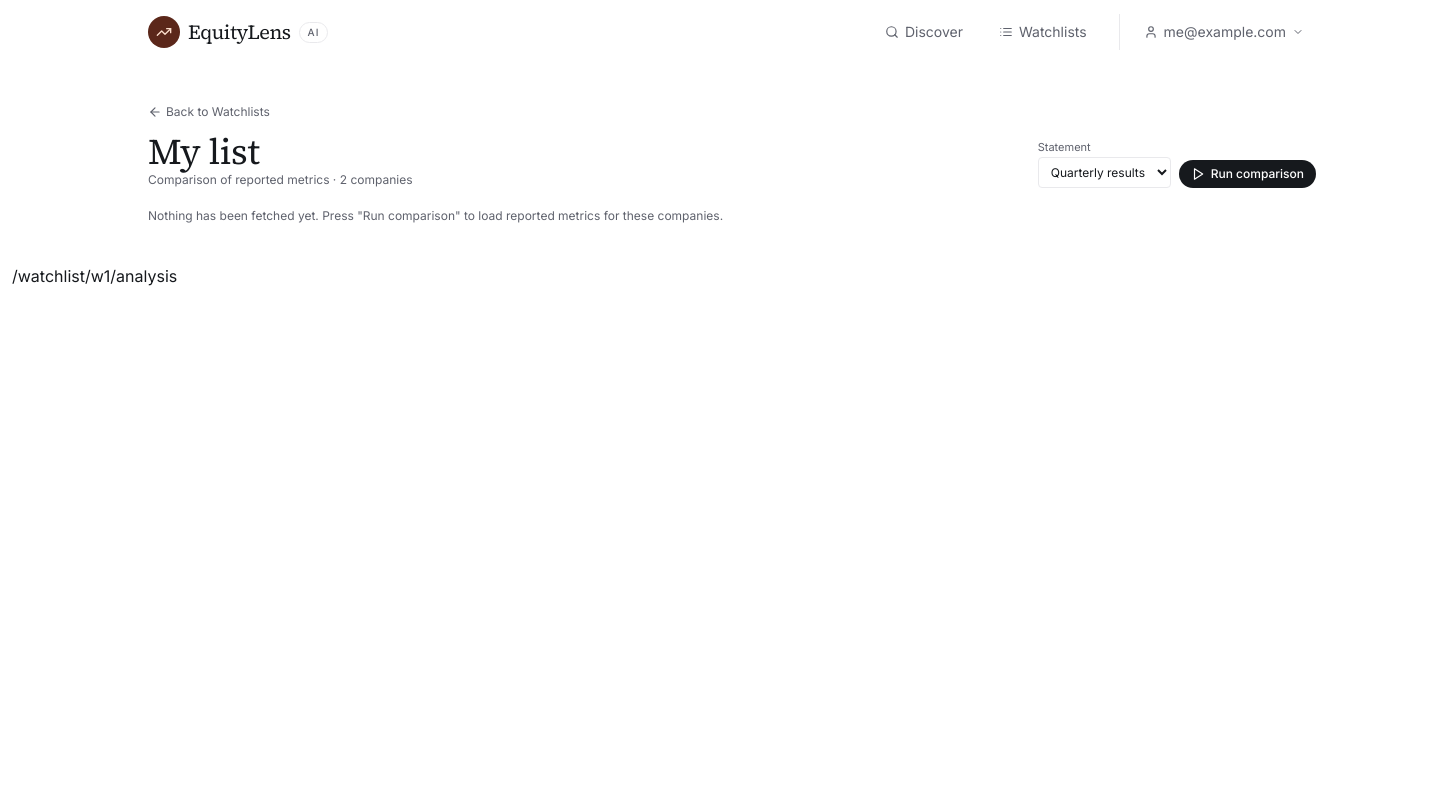
watchlist comparison › warns and shows each period when periods differ
Click the button "Run comparison" at (1247, 174), box [1179, 160, 1316, 188]
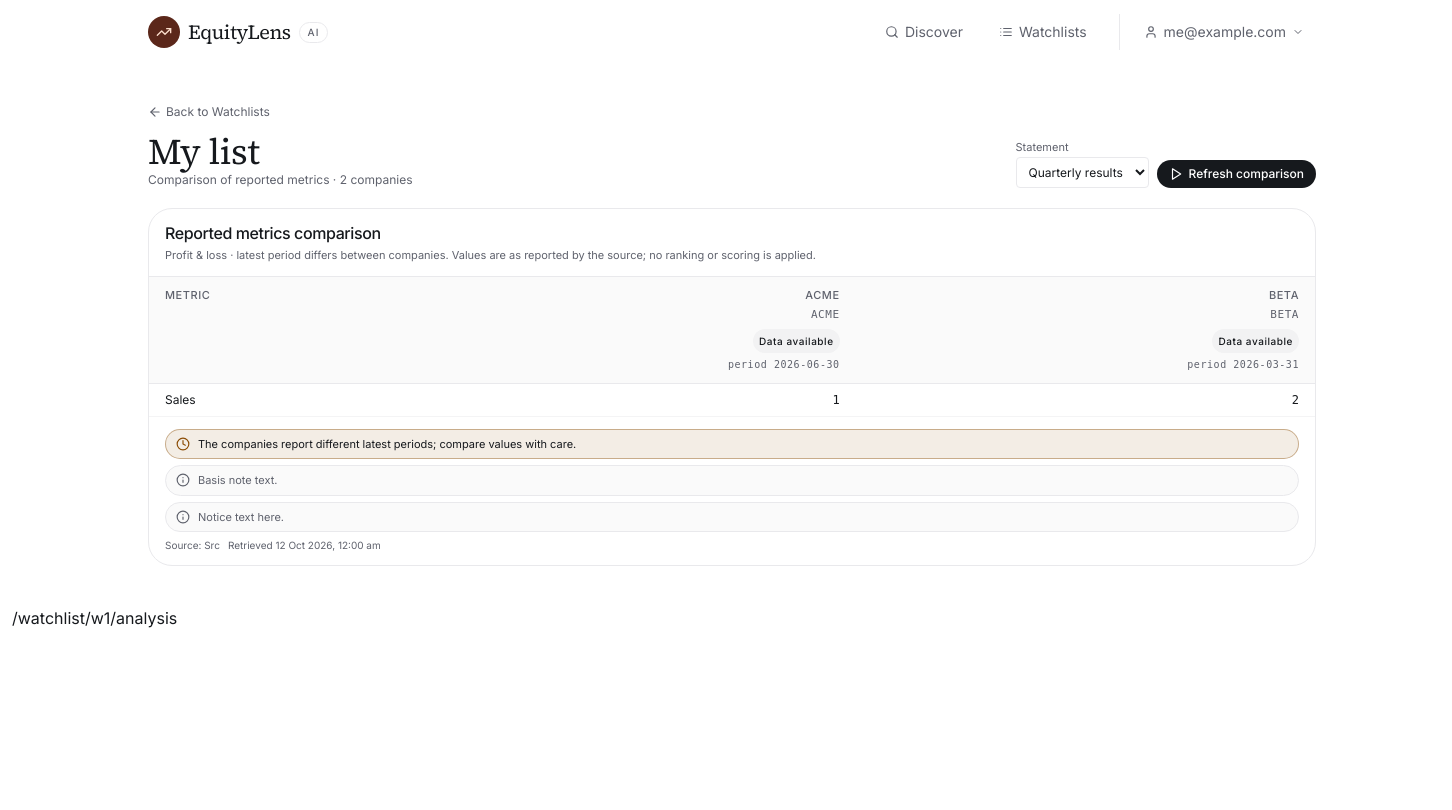
Expected: the text "period 2026-06-30" is shown, [728, 358, 840, 370]
Expected: the text "period 2026-03-31" is shown, [1187, 358, 1299, 370]
Expected: the text "different latest periods" is shown, [198, 436, 576, 450]
